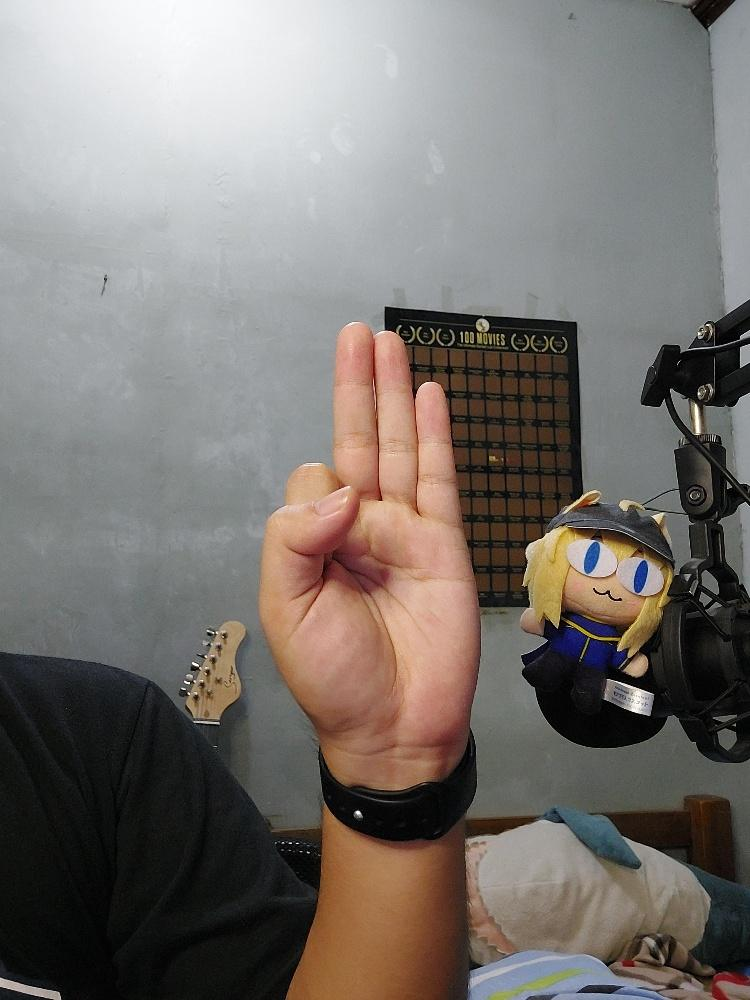f: (256, 315, 476, 761)
